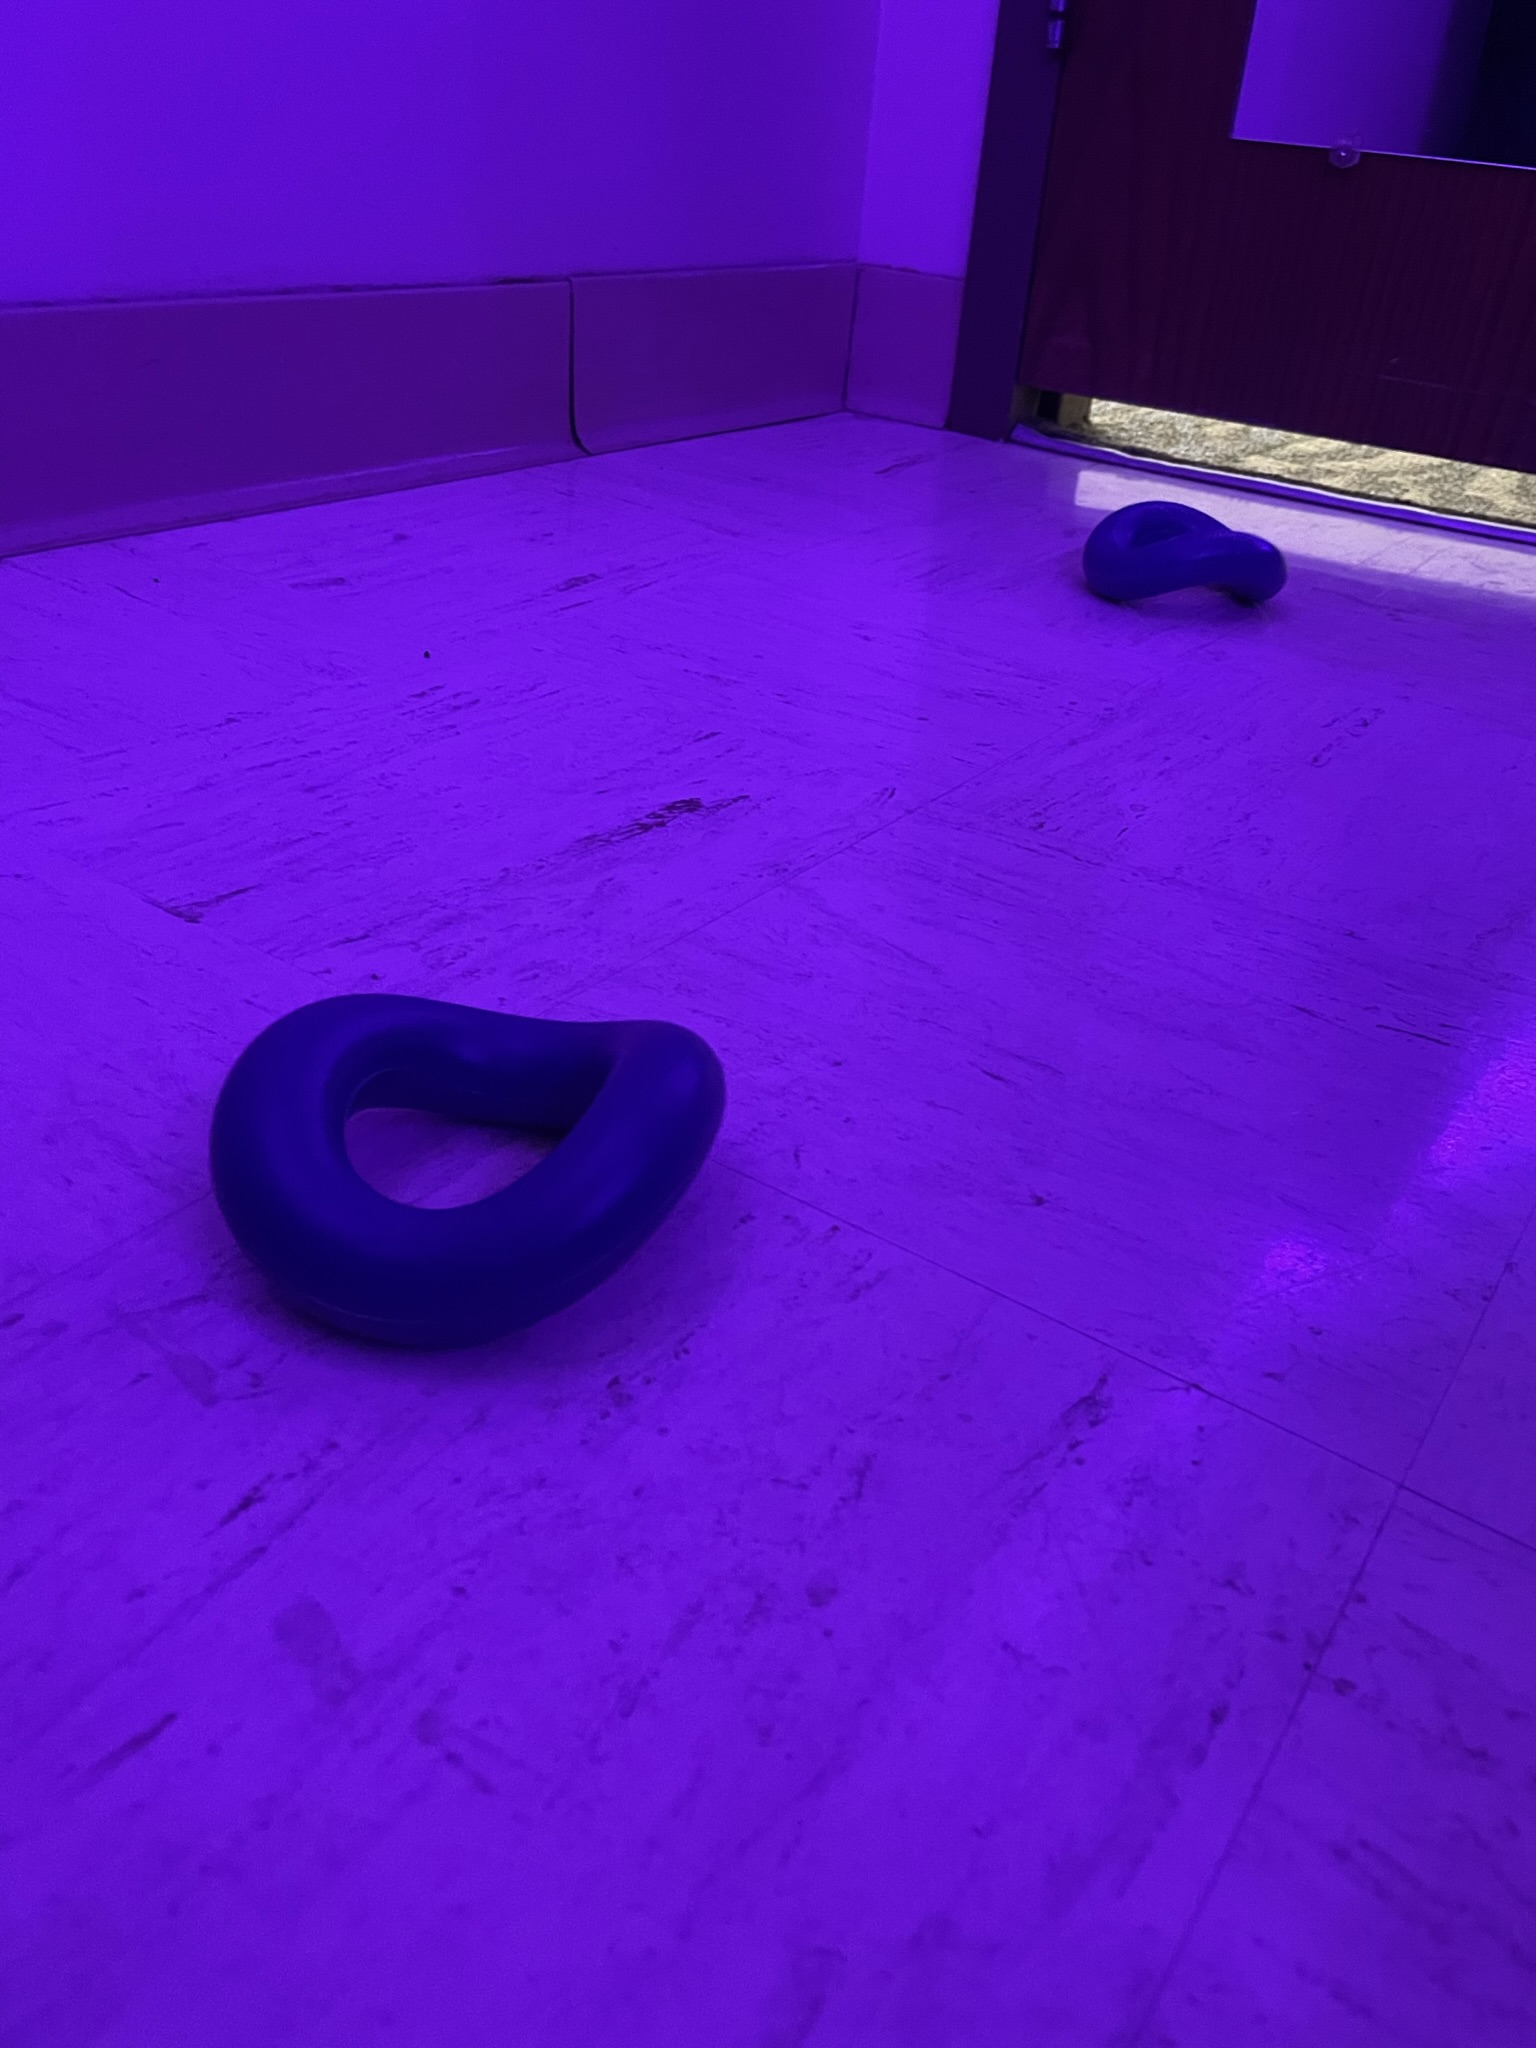ring: (203, 992, 728, 1353), (1073, 497, 1288, 626)
